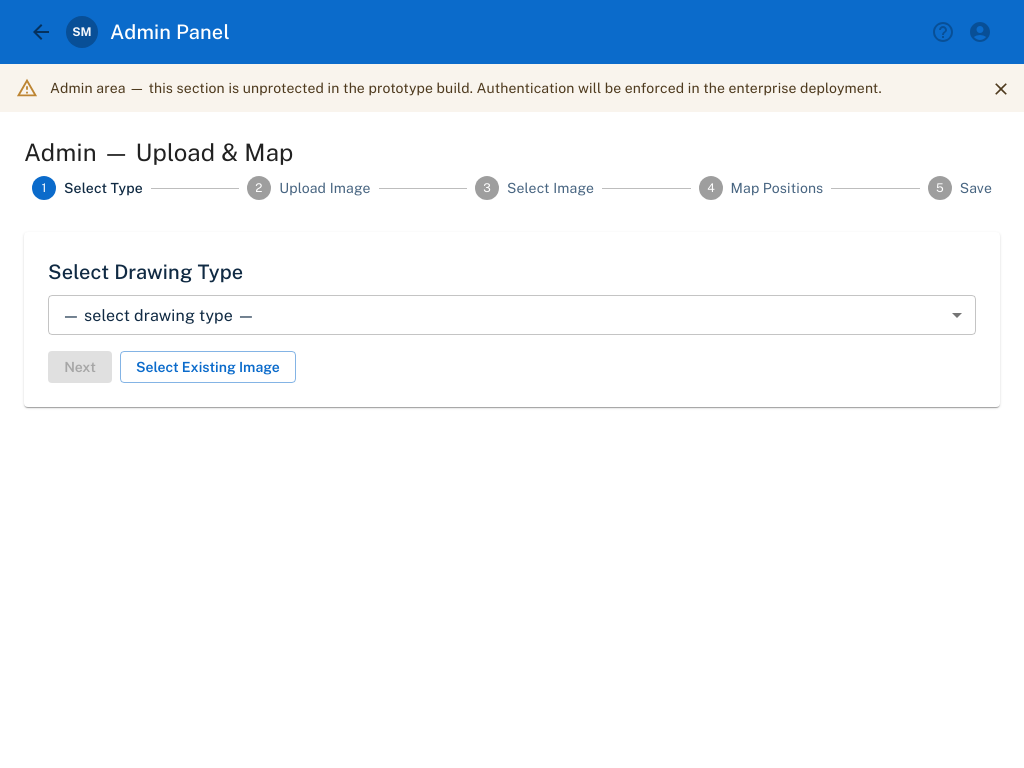
Test: AdminUploadMappingPage › allows jumping straight to Select Image to edit existing mappings
Click the button "Select Existing Image".
click(208, 367)  # box [120,351,296,383]
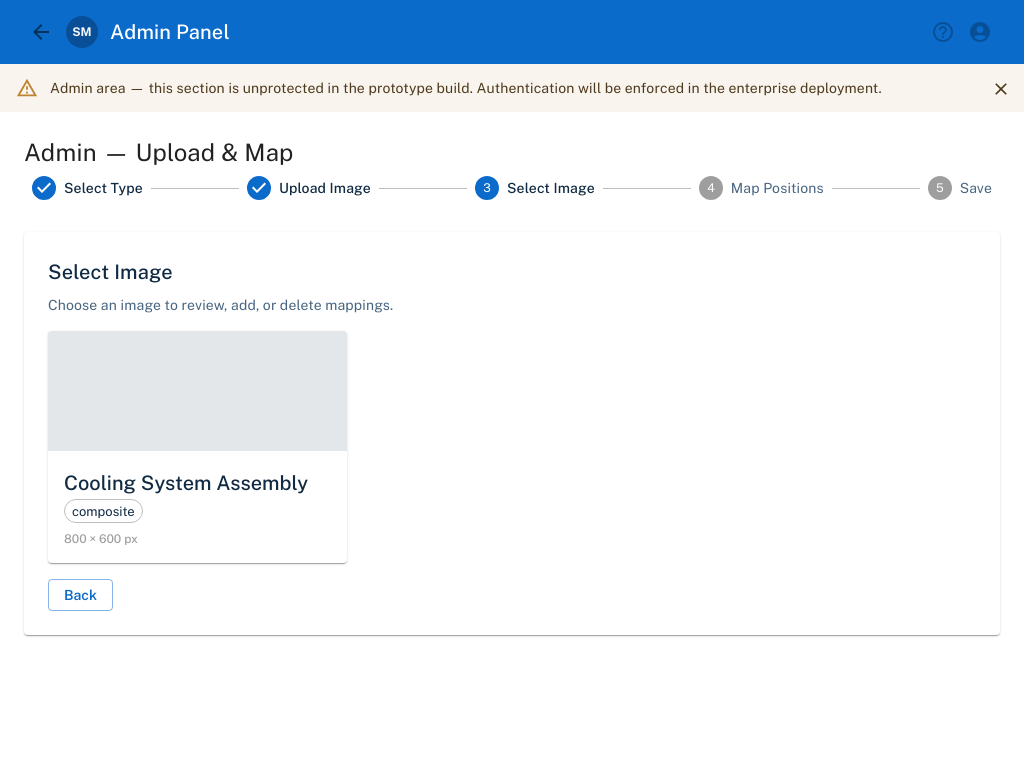
Check: the heading "Select Image" is shown, box [48,260,173,284]
